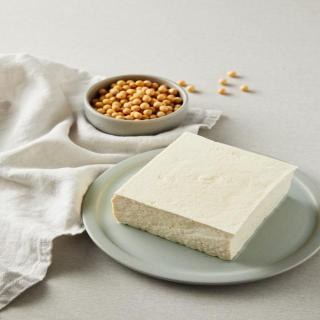Tahu: (124, 131, 298, 270)
